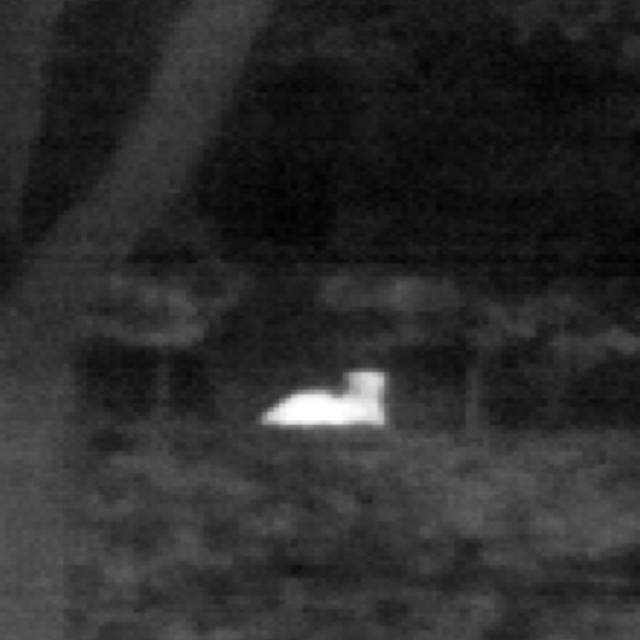cheetah: (265, 372, 386, 427)
